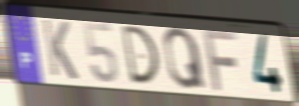4: (251, 31, 285, 98)
5: (80, 20, 119, 85)
D: (119, 23, 161, 86)
F: (201, 28, 240, 94)
K: (39, 17, 80, 83)
Q: (162, 26, 209, 92)
